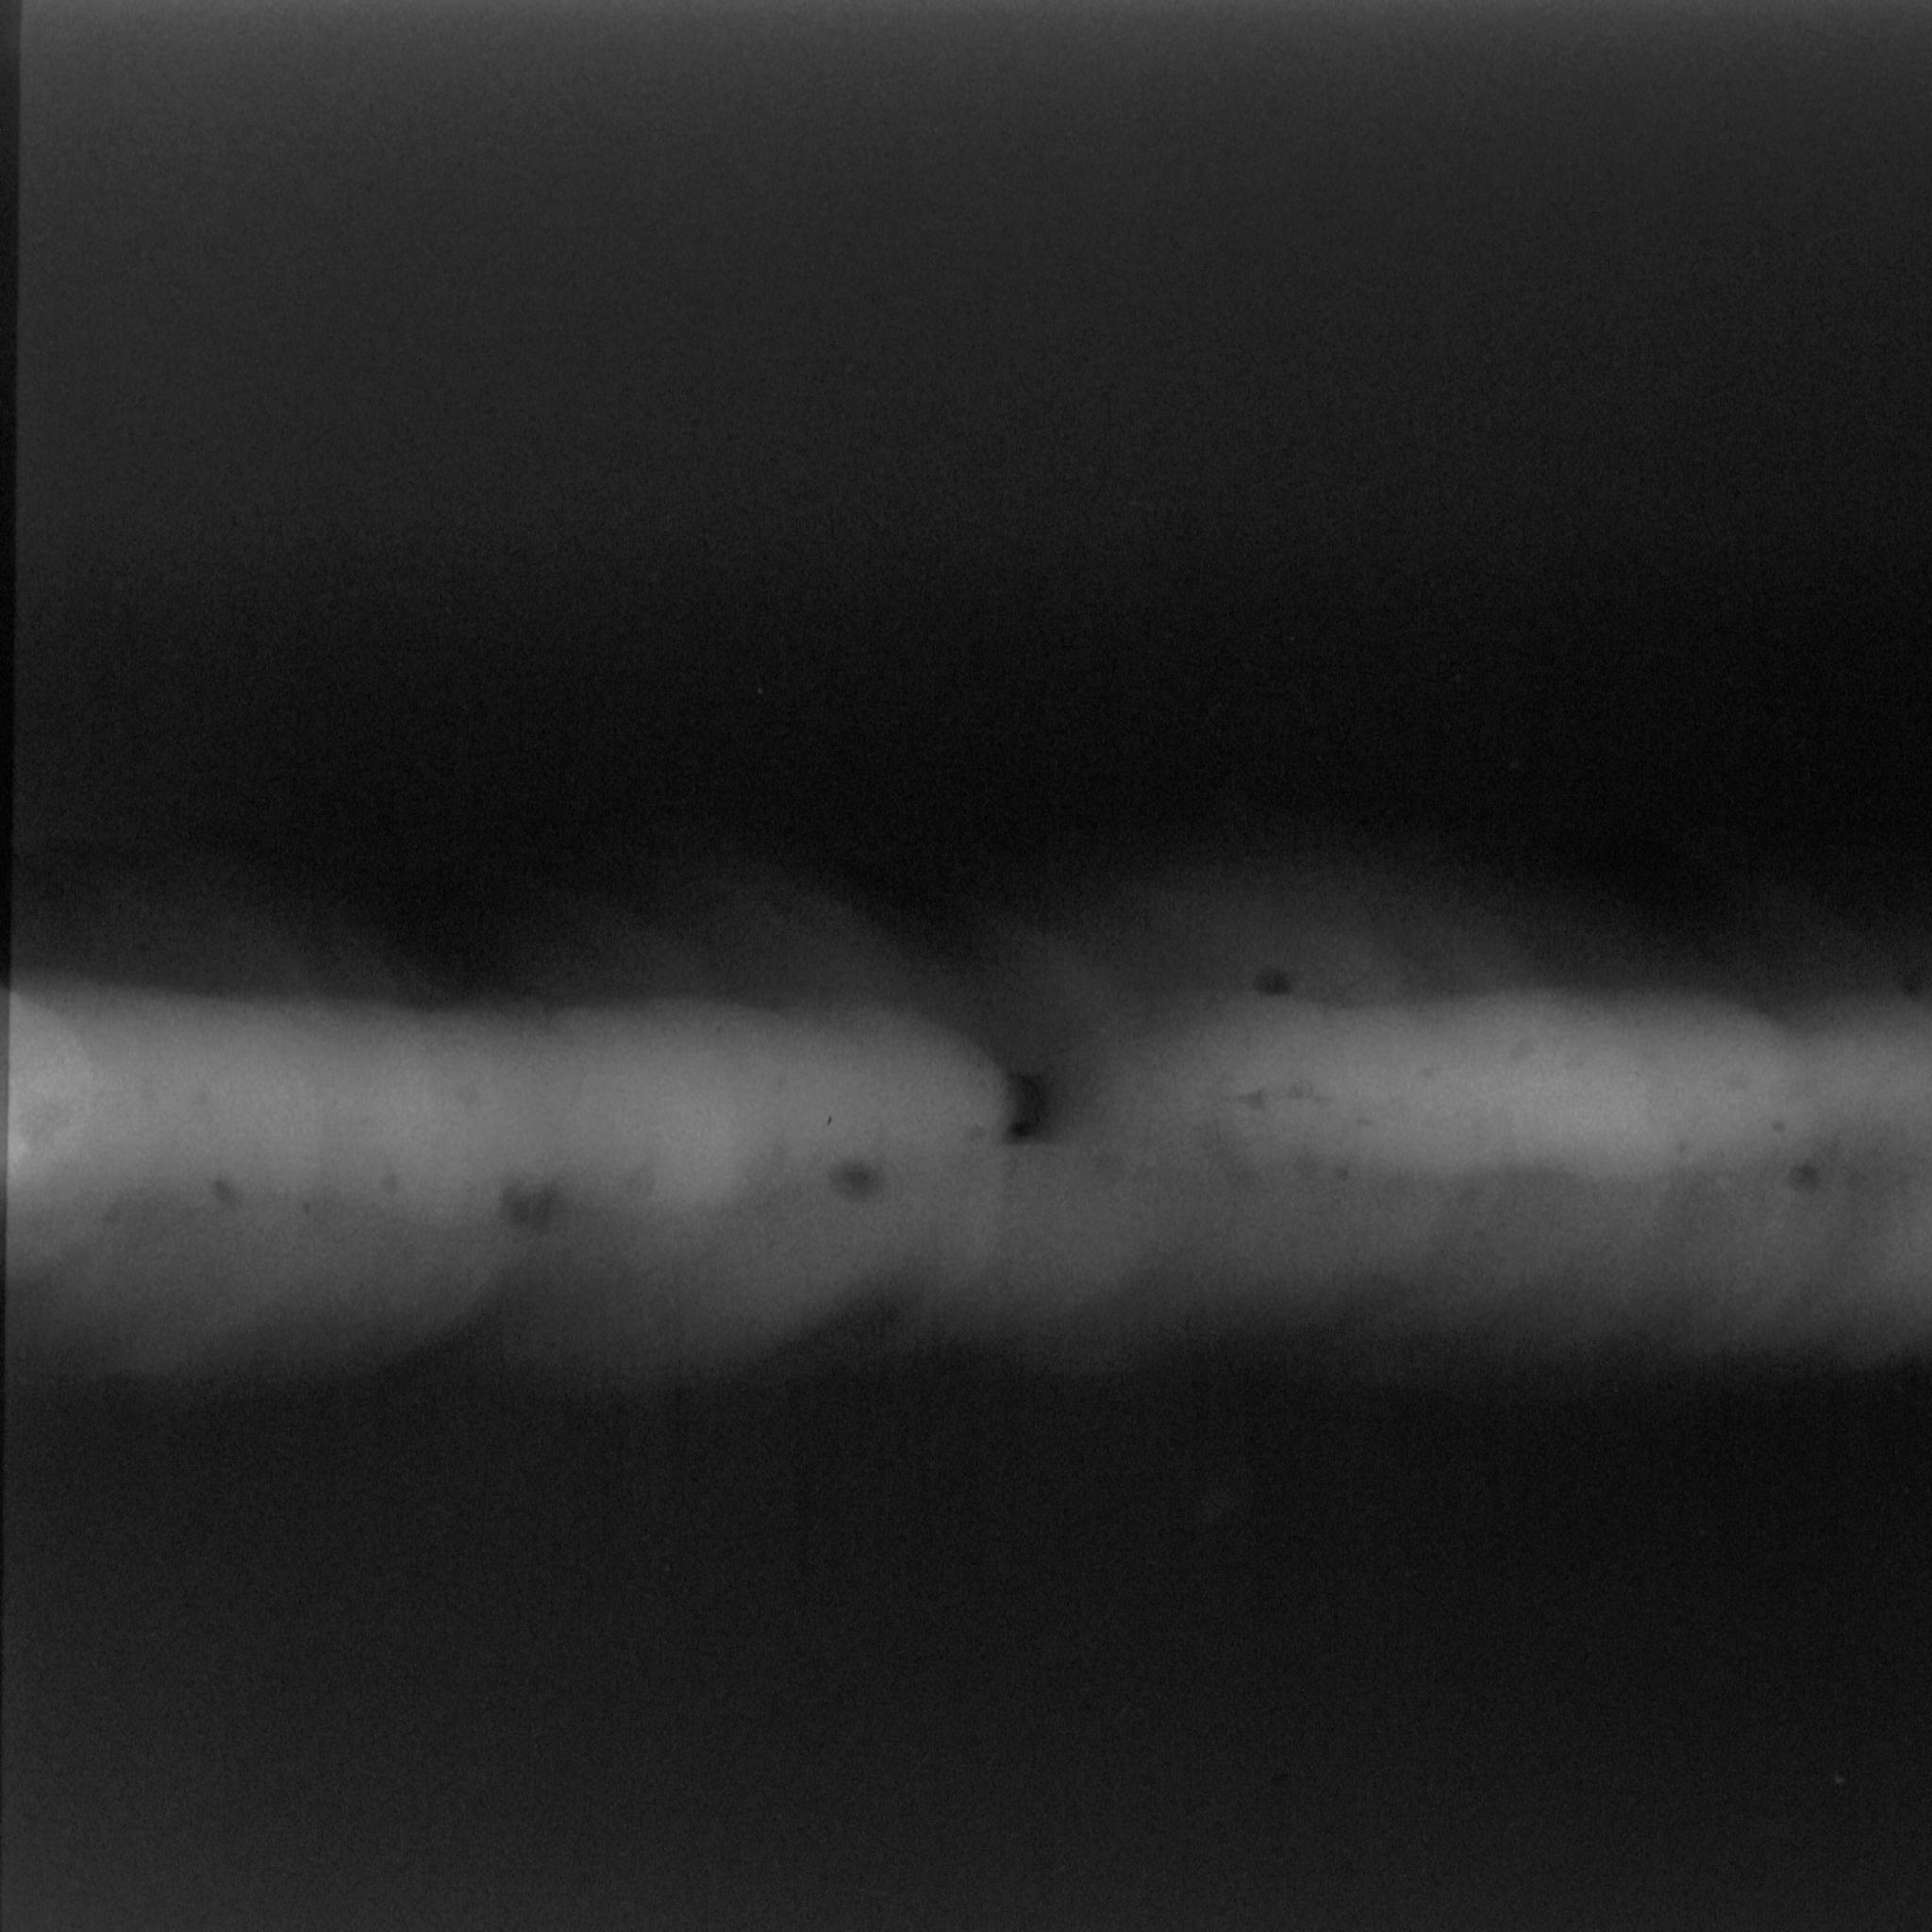FF: (908, 980, 1148, 1362), (479, 1161, 630, 1341)
IE: (1629, 1042, 1918, 1277), (1162, 1042, 1415, 1242)
PO: (824, 1146, 899, 1219), (191, 1157, 258, 1233), (361, 1157, 426, 1221), (448, 1058, 501, 1129)
